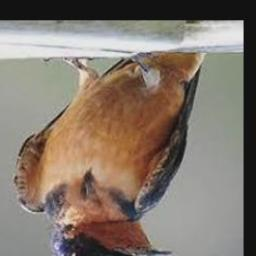Swallow: (12, 52, 205, 256)
